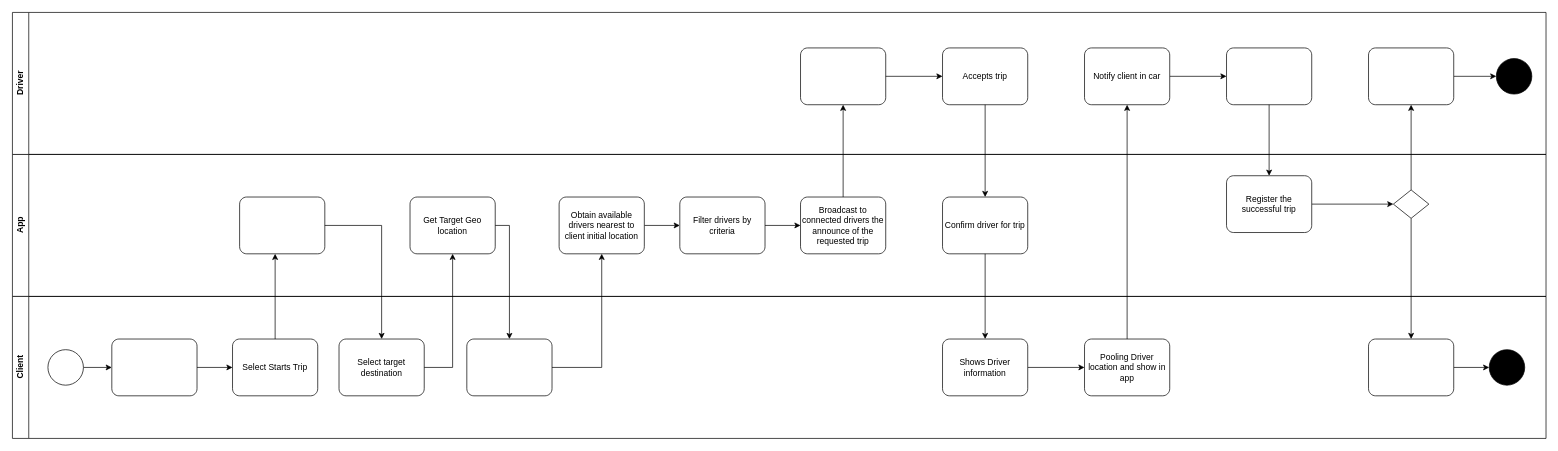
Image size: 1558x451. Some labels were removed from this diagram. The shapes that lost their labels are listed below. From the top down, each one's centre as x and y in pixels, then its label:
At point (843, 76): "Claim trip".
At point (1269, 76): "Notify trip finished".
At point (1411, 76): "Evaluate client".
At point (282, 225): "Get Client Geo location".
At point (154, 367): "Starts app".
At point (509, 367): "Confirm initial location and destination".
At point (1411, 367): "Show tip options and driver evaluation".
